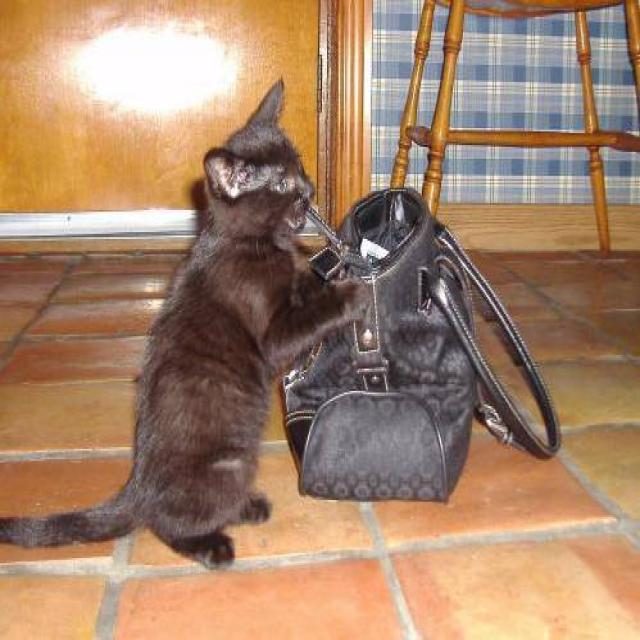cat: (0, 75, 363, 570)
